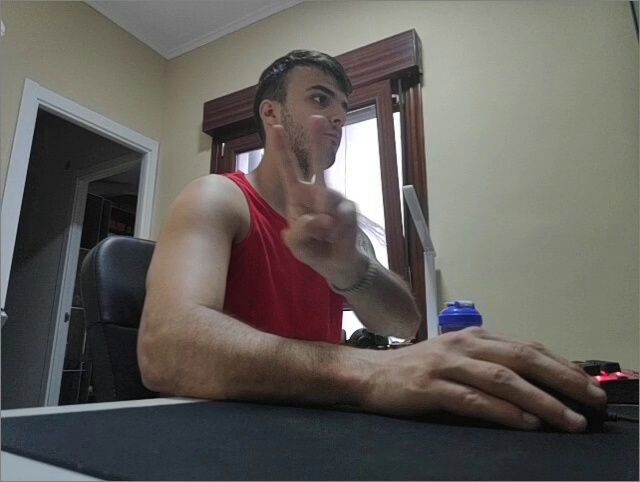Peace: (269, 121, 362, 283)
